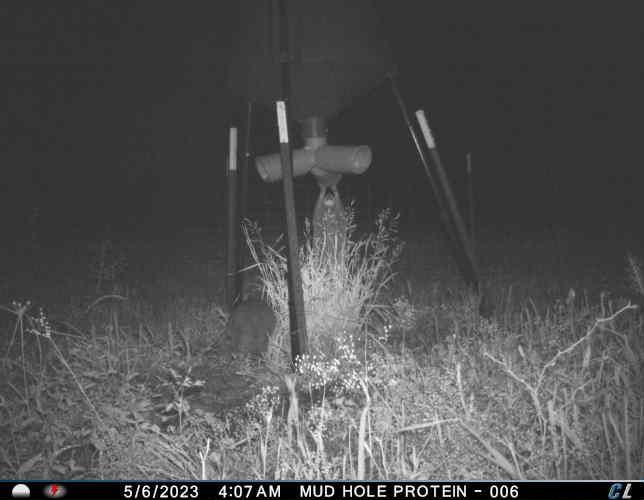Raccoon: (217, 298, 281, 364), (311, 179, 351, 266)
